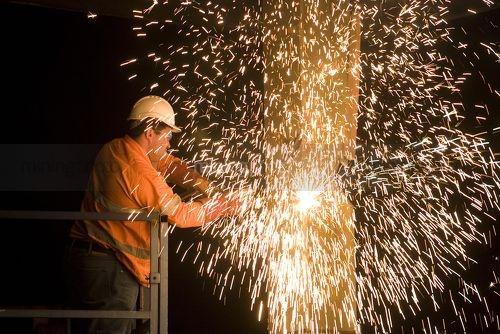Helmet: (128, 95, 182, 152)
